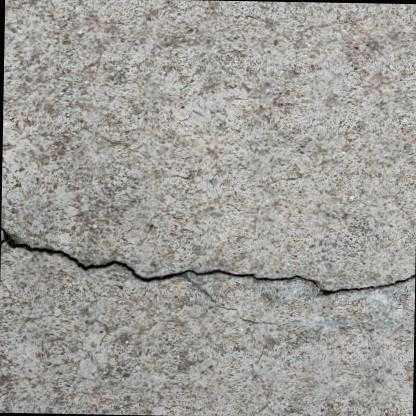crack: (0, 226, 415, 295)
